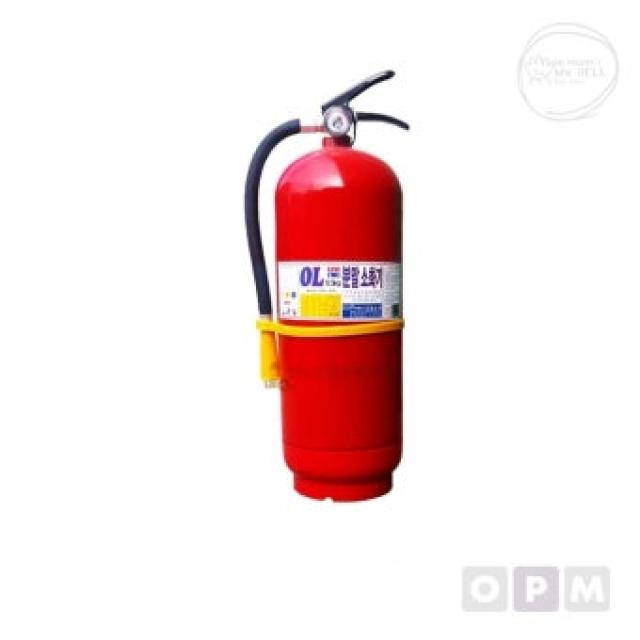pressure gauge: (322, 105, 354, 136)
